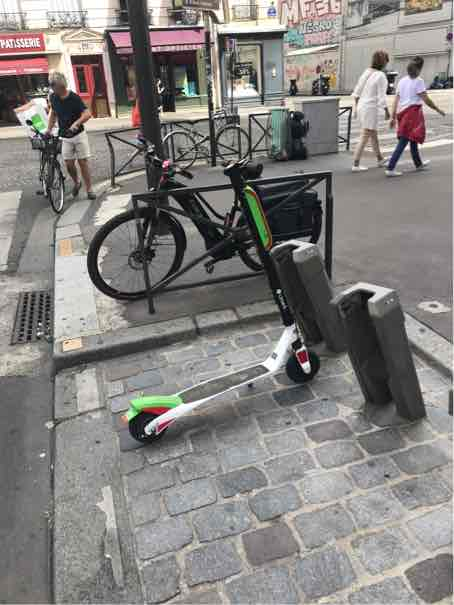scooter: (113, 147, 329, 453)
